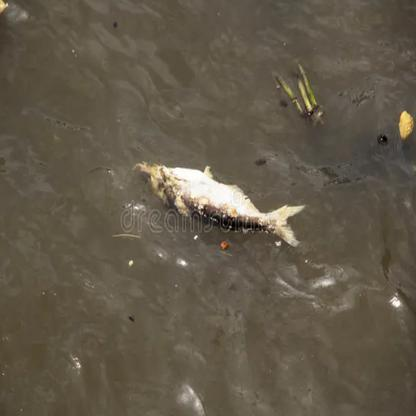deceased fish: (141, 157, 303, 247)
